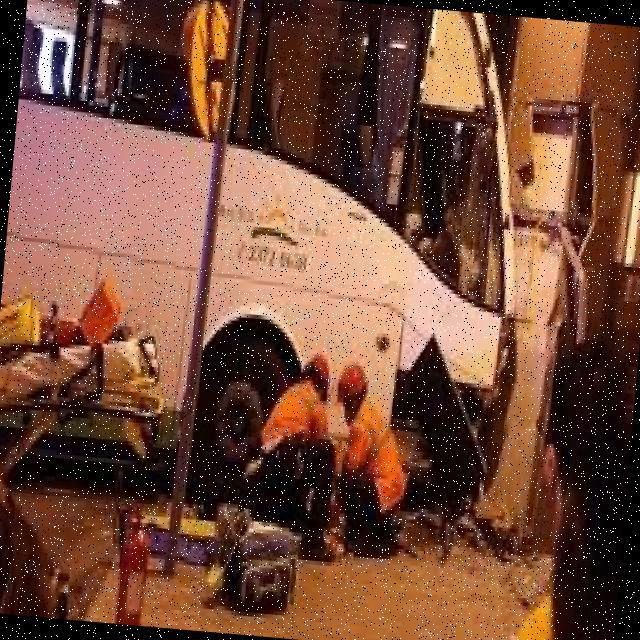accident: (367, 7, 626, 552)
